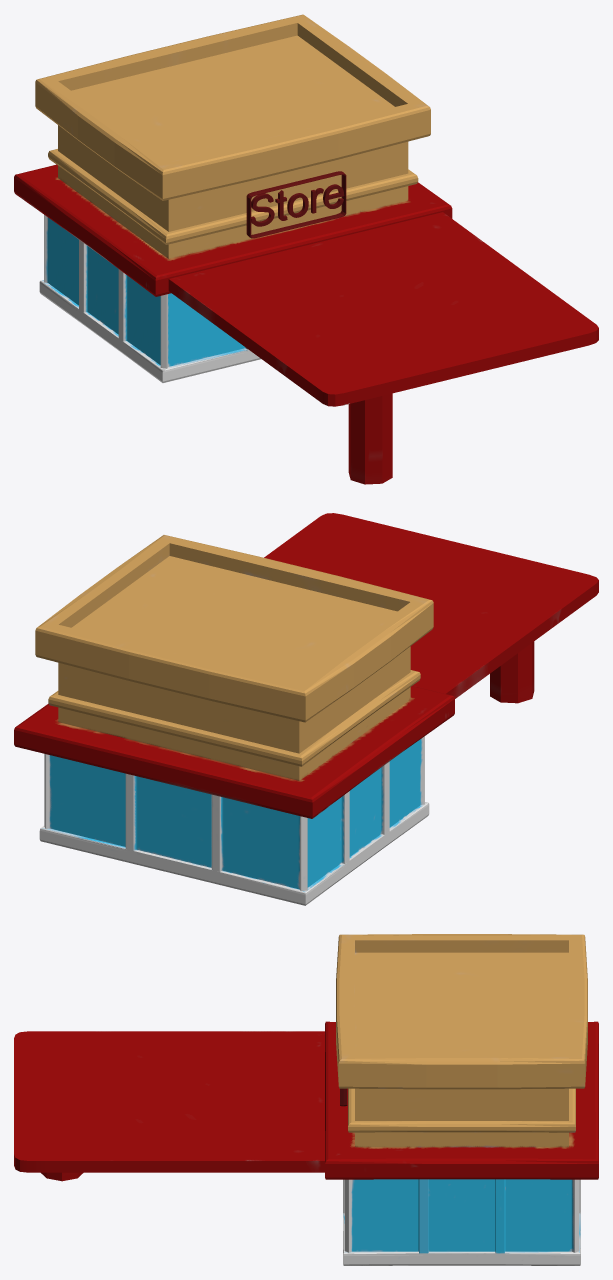
File: store1.FBX
3 views of the same model, one above another, from view 1: azimuth 30°, elevation 25°; view 2: azimuth 150°, elevation 25°; view 3: azimuth 270°, elevation 25° (orthographic). The views are drawn at different scales.
Visible parts, largest first — view 1: store; view 2: store; view 3: store.
Part boxes in pixels (left/top/right/bottom): store: left=14, top=14, right=598, bottom=484; store: left=14, top=513, right=598, bottom=905; store: left=14, top=934, right=598, bottom=1265.
Size of the model in its own units: 1467 by 1014 by 2590.
